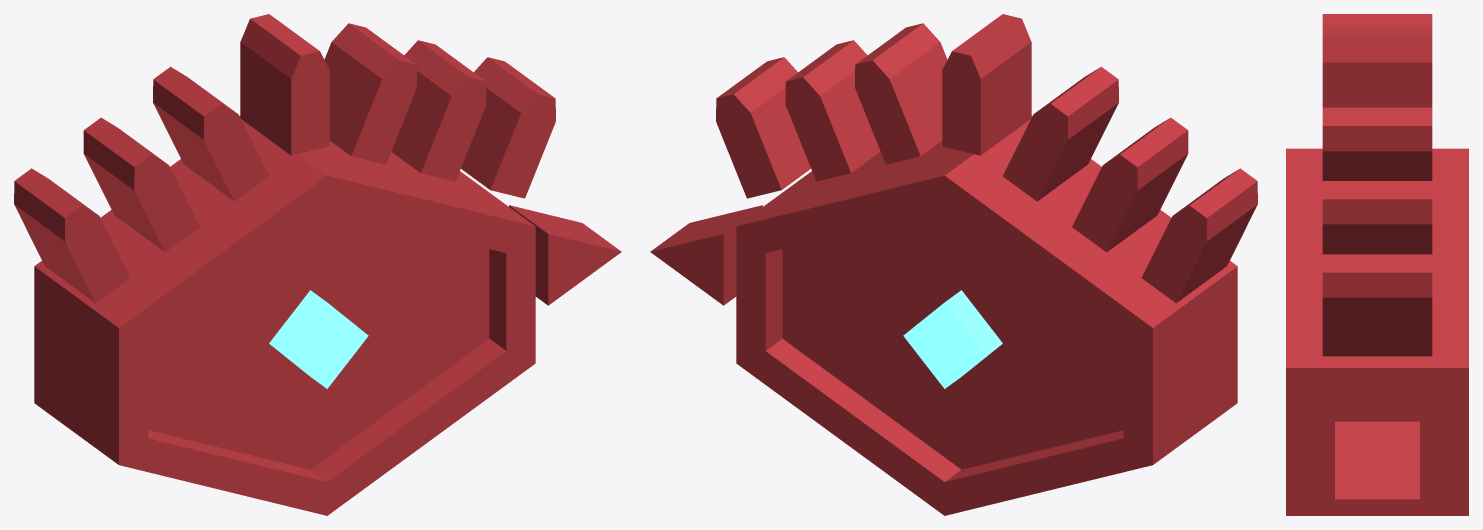
File: MainTrophy.fbx
3 renders of one model, left to right at view 1: azimuth 30°, elevation 25°; view 2: azimuth 150°, elevation 25°; view 3: azimuth 270°, elevation 25°, orthographic. The views are drawn at different scales.
Visible parts, largest first — view 1: Trophy_Central.001; view 2: Trophy_Central.001; view 3: Trophy_Central.001.
Boxes of the visible parts, x1,y1,x2,y2 form: Trophy_Central.001: [14, 14, 621, 515]; Trophy_Central.001: [650, 14, 1257, 515]; Trophy_Central.001: [1286, 14, 1468, 515].
Size of the model in its own units: 2.88 by 2.2 by 0.75.
